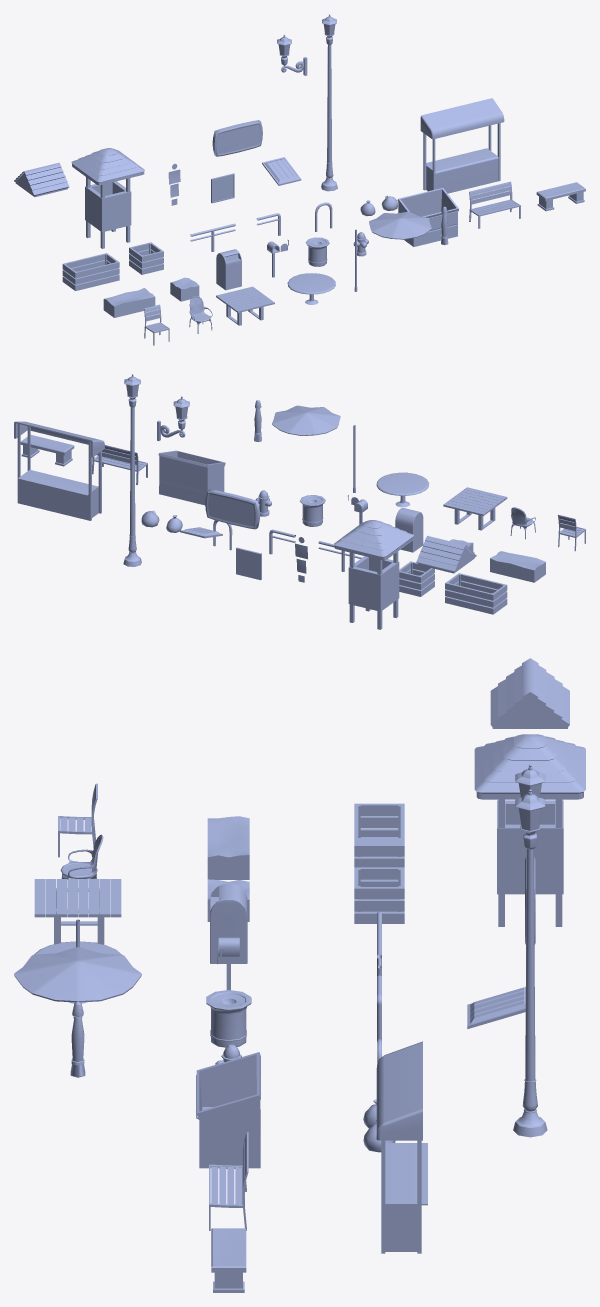
File: StreetProps.fbx
The picture shows the model from 3 angles, top to bottom: view 1: azimuth 30°, elevation 25°; view 2: azimuth 150°, elevation 25°; view 3: azimuth 270°, elevation 25°; orthographic projection. The views are drawn at different scales.
Parts seen in each view (by area): view 1: Stall, InfoStall, Dumpster, SquareSmallRoof, WoodCrateLong, Sign, UmbrellaOpen, TriangleSmallRoof, WoodTable, LampPost, BenchWood, BoxSoilBig (+11 smaller); view 2: Stall, InfoStall, Dumpster, SquareSmallRoof, WoodCrateLong, Sign, UmbrellaOpen, TriangleSmallRoof, WoodTable, LampPost, BoxSoilBig, RoundTable (+9 smaller); view 3: Stall, Dumpster, SquareSmallRoof, InfoStall, UmbrellaOpen, TriangleSmallRoof, LampPost, WoodTable, WoodCrateLong, WoodCrate, BoxSoilBig, PostalMailBox (+7 smaller).
Part boxes in pixels (left/top/right/bottom): Stall: left=420, top=98, right=504, bottom=193; InfoStall: left=85, top=177, right=131, bottom=248; Dumpster: left=397, top=188, right=458, bottom=246; SquareSmallRoof: left=71, top=148, right=144, bottom=185; WoodCrateLong: left=62, top=253, right=119, bottom=290; Sign: left=212, top=120, right=262, bottom=156; UmbrellaOpen: left=369, top=211, right=431, bottom=239; TriangleSmallRoof: left=14, top=162, right=69, bottom=197; WoodTable: left=216, top=286, right=274, bottom=325; LampPost: left=321, top=14, right=337, bottom=191; BenchWood: left=469, top=181, right=520, bottom=228; BoxSoilBig: left=103, top=288, right=155, bottom=317; Stall: left=14, top=421, right=104, bottom=520; InfoStall: left=348, top=551, right=399, bottom=629; Dumpster: left=158, top=450, right=225, bottom=505; SquareSmallRoof: left=334, top=520, right=413, bottom=560; WoodCrateLong: left=445, top=573, right=507, bottom=614; Sign: left=205, top=489, right=259, bottom=529; UmbrellaOpen: left=272, top=405, right=340, bottom=435; TriangleSmallRoof: left=416, top=535, right=476, bottom=573; WoodTable: left=443, top=487, right=507, bottom=530; LampPost: left=123, top=374, right=141, bottom=566; BoxSoilBig: left=490, top=551, right=545, bottom=582; RoundTable: left=376, top=472, right=429, bottom=507; Stall: left=376, top=1041, right=427, bottom=1253; Dumpster: left=196, top=1052, right=260, bottom=1168; SquareSmallRoof: left=474, top=734, right=585, bottom=799; InfoStall: left=497, top=799, right=563, bottom=926; UmbrellaOpen: left=14, top=947, right=141, bottom=1002; TriangleSmallRoof: left=490, top=658, right=569, bottom=728; LampPost: left=513, top=789, right=547, bottom=1137; WoodTable: left=34, top=879, right=121, bottom=944; WoodCrateLong: left=354, top=803, right=404, bottom=867; WoodCrate: left=354, top=867, right=404, bottom=923; BoxSoilBig: left=207, top=816, right=249, bottom=879; PostalMailBox: left=210, top=884, right=247, bottom=963.
Bounding box in the file's own units: 21.71 × 7.61 × 11.38.
